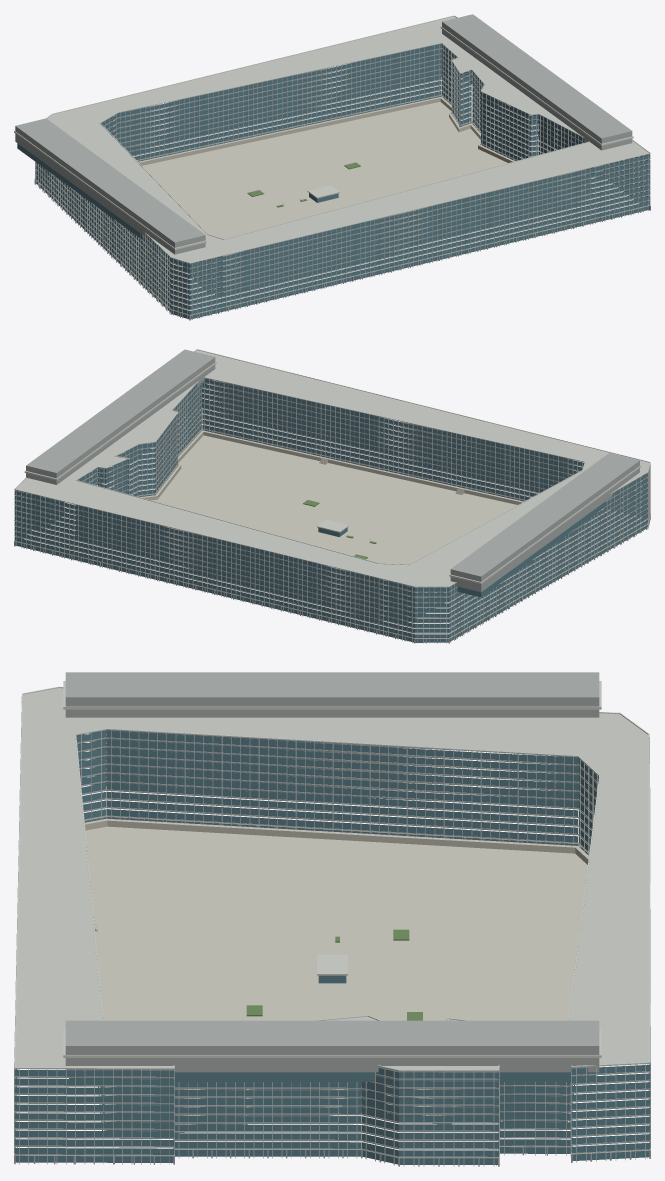
File: science.glb
3 renders of one model, top to bottom at view 1: azimuth 30°, elevation 25°; view 2: azimuth 150°, elevation 25°; view 3: azimuth 270°, elevation 25°, orthographic. The views are drawn at different scales.
Parts seen in each view (by area): view 1: glass, wall, paving, trim, roof, stone; view 2: glass, wall, paving, trim, roof, stone; view 3: paving, glass, wall, roof, trim, stone.
Part boxes in pixels (x1,y1,x2,y2): glass: (17,43,650,319); wall: (15,14,650,320); paving: (138,96,589,292); trim: (14,15,650,319); roof: (47,16,648,262); stone: (139,98,512,165); glass: (14,378,647,642); wall: (14,349,650,643); paving: (140,430,523,617); trim: (14,349,650,643); roof: (16,350,649,586); stone: (143,431,522,504); paving: (85,818,588,1130); glass: (14,730,650,1165); wall: (14,672,650,1166); roof: (15,688,649,1069); trim: (14,681,650,1166); stone: (85,820,588,1121).
Bounding box in the file's own units: 396 × 55.67 × 278.
